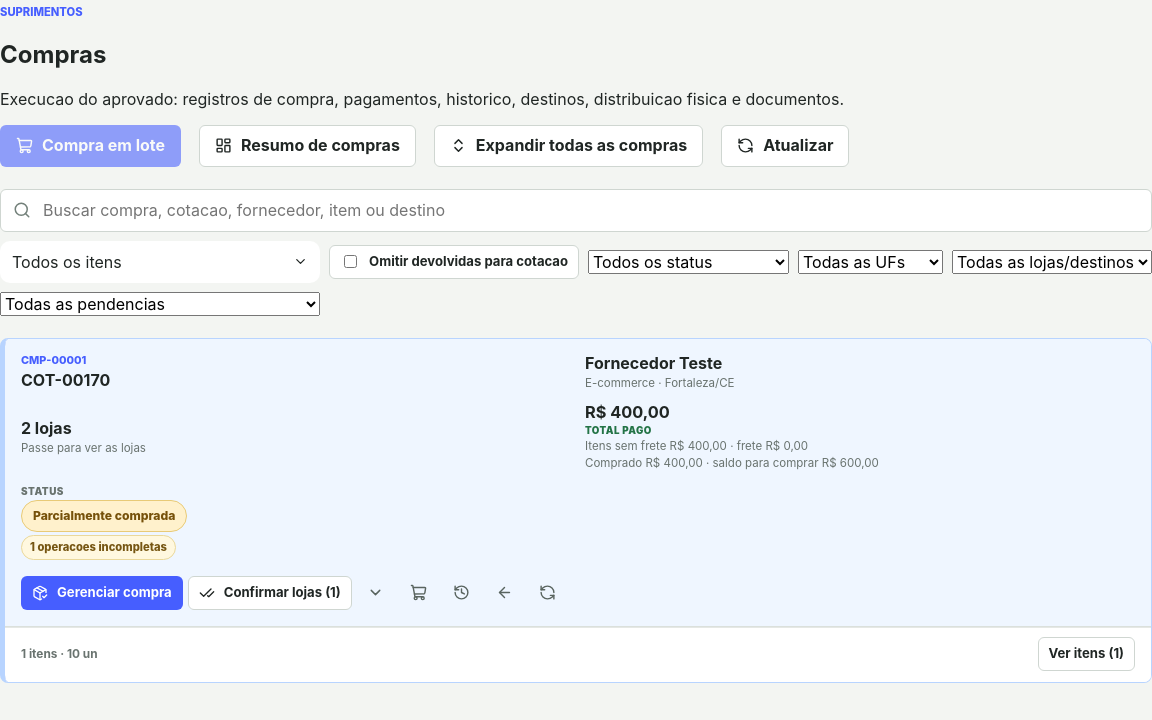
Test case: SupplyPurchasesPage V2 › mantem o reembolso fora da operacao e exibe os pagamentos
The width and height of the screenshot is (1152, 720).
Expected: the text "Execucao do aprovado" is shown, [0,89,844,109]
Click the button named "Detalhar CMP-00001" at (376, 592), box [357,574,395,612]
(page scrolled)
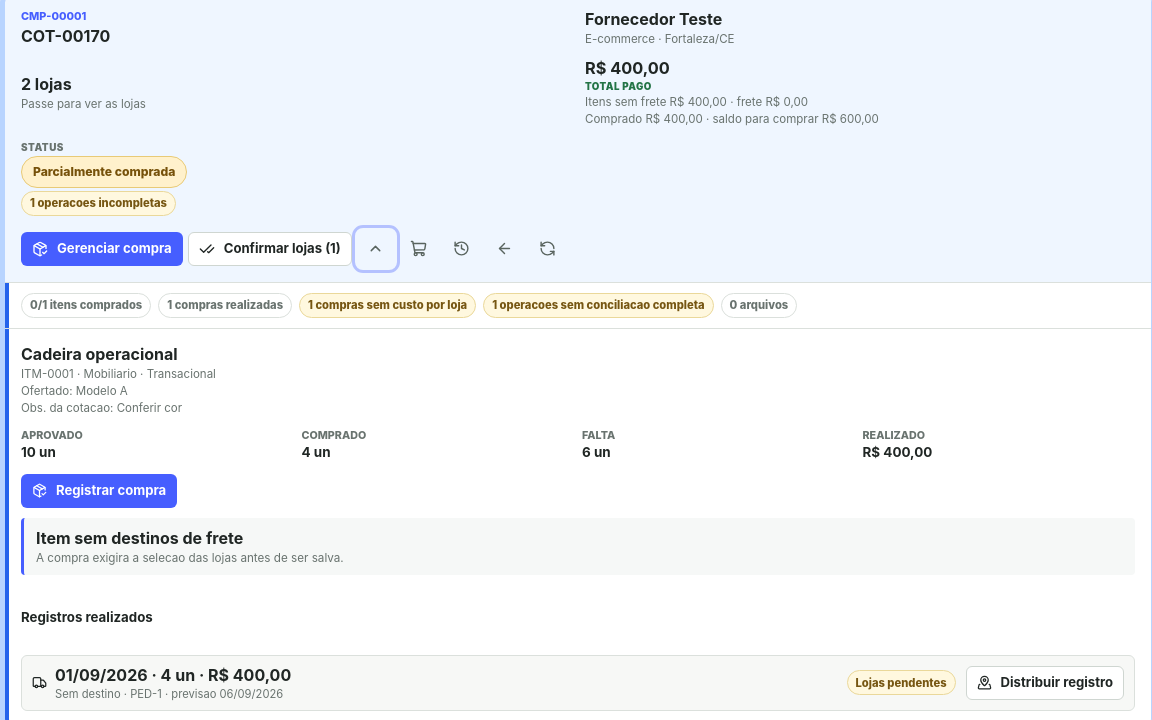
Expected: the text "Total pago" is shown, [585,81,652,92]
Result: the text "1 compras realizadas" is shown at [158,292,292,318]
